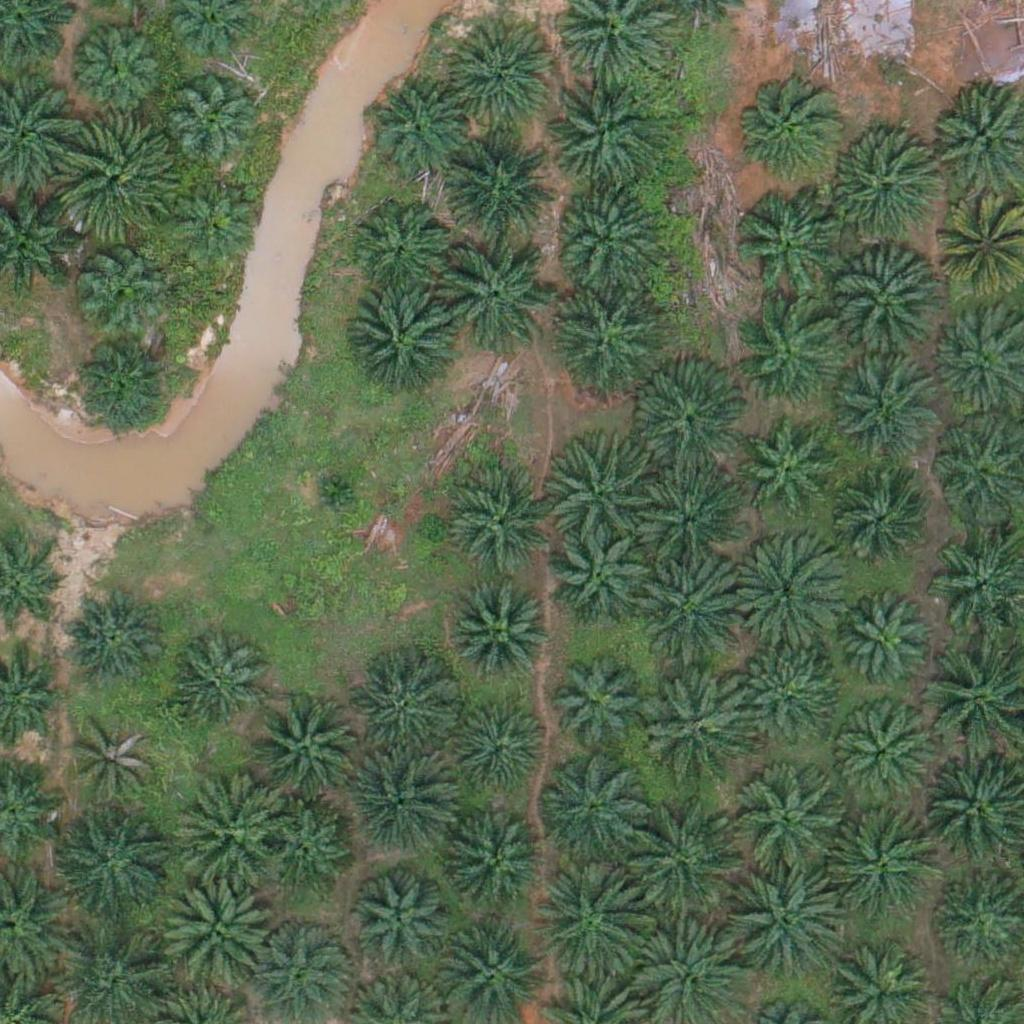Kelapa_Sawit: (729, 534, 842, 648), (638, 550, 751, 664), (529, 867, 642, 981), (555, 177, 668, 291), (546, 82, 659, 196), (444, 18, 557, 132), (830, 250, 943, 363), (824, 808, 937, 921), (732, 192, 845, 305), (734, 769, 847, 882), (643, 668, 756, 781), (343, 289, 456, 402), (344, 747, 457, 860), (60, 119, 173, 232), (735, 297, 847, 411), (536, 751, 648, 865), (733, 69, 845, 183), (443, 126, 555, 240), (736, 866, 848, 979), (636, 372, 748, 485), (625, 801, 737, 914), (547, 280, 659, 393), (547, 428, 659, 541), (435, 237, 547, 350), (249, 691, 361, 804), (172, 774, 284, 887), (159, 872, 271, 985), (57, 806, 169, 919), (819, 132, 931, 245), (836, 366, 936, 467), (831, 706, 931, 807), (737, 421, 837, 522), (548, 656, 648, 757), (549, 526, 649, 627), (350, 199, 450, 300), (350, 877, 450, 978), (251, 921, 351, 1022), (165, 632, 265, 733), (369, 79, 469, 180), (828, 480, 928, 580), (739, 653, 839, 753), (639, 469, 739, 569), (450, 477, 550, 577), (451, 586, 551, 686), (451, 702, 551, 802), (447, 818, 547, 918), (353, 662, 453, 762), (71, 334, 171, 434), (62, 587, 162, 687), (71, 18, 171, 118), (841, 600, 929, 689), (261, 805, 349, 893), (75, 241, 163, 329), (172, 176, 260, 264), (71, 718, 158, 806), (170, 84, 257, 172), (308, 464, 358, 515)
